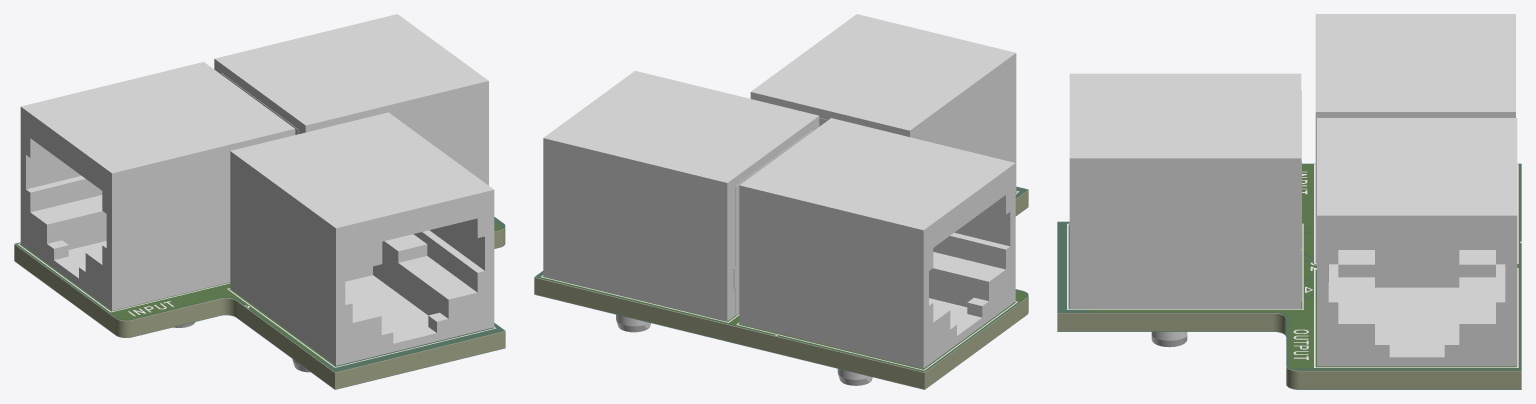
Rendered from board.glb.
3 renders of one model, left to right at view 1: azimuth 30°, elevation 25°; view 2: azimuth 150°, elevation 25°; view 3: azimuth 270°, elevation 25°, orthographic. The views are drawn at different scales.
Visible parts, largest first — view 1: 54602-908_SW0002 (×3), board_PCB, board_soldermask (×2), board_copper, board_silkscreen; view 2: 54602-908_SW0002 (×3), board_PCB, board_soldermask (×2), board_silkscreen; view 3: 54602-908_SW0002 (×3), board_PCB, board_soldermask (×2), board_copper, board_silkscreen.
Part boxes in pixels (x1,y1,x2,y2): 54602-908_SW0002 (×3): (20,14,494,372); board_PCB: (14,218,505,389); board_soldermask (×2): (14,217,505,389); board_copper: (20,223,501,360); board_silkscreen: (17,243,496,367); 54602-908_SW0002 (×3): (543,14,1016,385); board_PCB: (534,188,1028,389); board_soldermask (×2): (534,186,1028,389); board_silkscreen: (541,190,1019,370); 54602-908_SW0002 (×3): (1069,14,1517,366); board_PCB: (1057,164,1521,389); board_soldermask (×2): (1057,163,1521,389); board_copper: (1090,165,1518,367); board_silkscreen: (1067,164,1521,367).
Size of the model in its own units: 0.0375 by 0.0162 by 0.0355.
